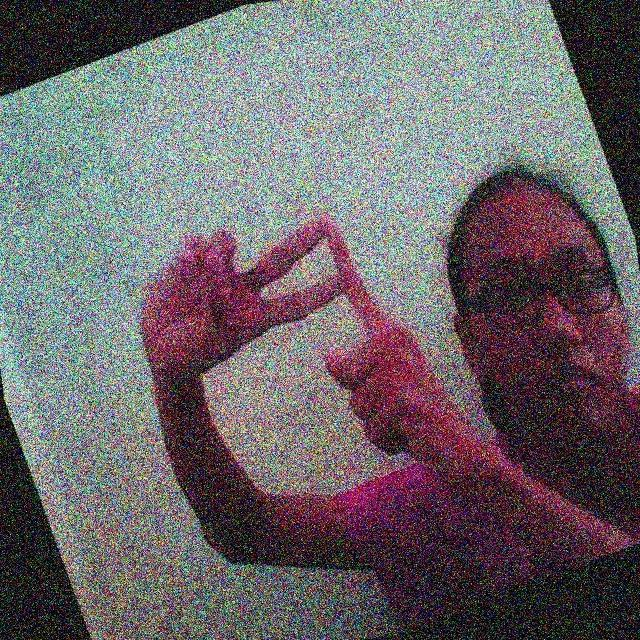P: (220, 204, 414, 411)
